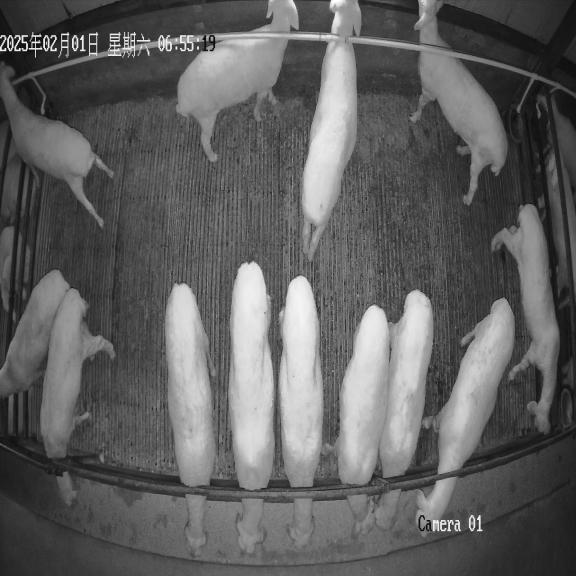eating: (416, 298, 515, 528), (40, 288, 115, 506), (322, 305, 389, 533), (373, 290, 433, 530), (165, 283, 215, 556), (228, 261, 274, 554), (279, 276, 323, 548)
stand: (410, 0, 508, 205), (176, 0, 298, 162), (0, 63, 113, 226), (490, 204, 560, 434), (301, 0, 361, 260), (0, 270, 70, 398)
